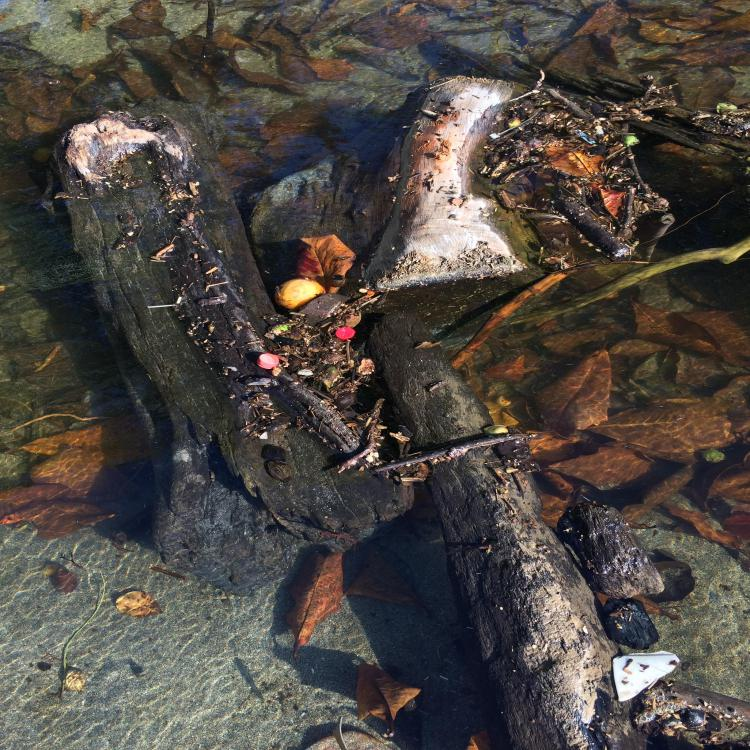Other plastic wrapper: (612, 650, 679, 702), (575, 131, 595, 144)
Plastic bottle cap: (257, 354, 279, 369), (336, 327, 355, 341)
